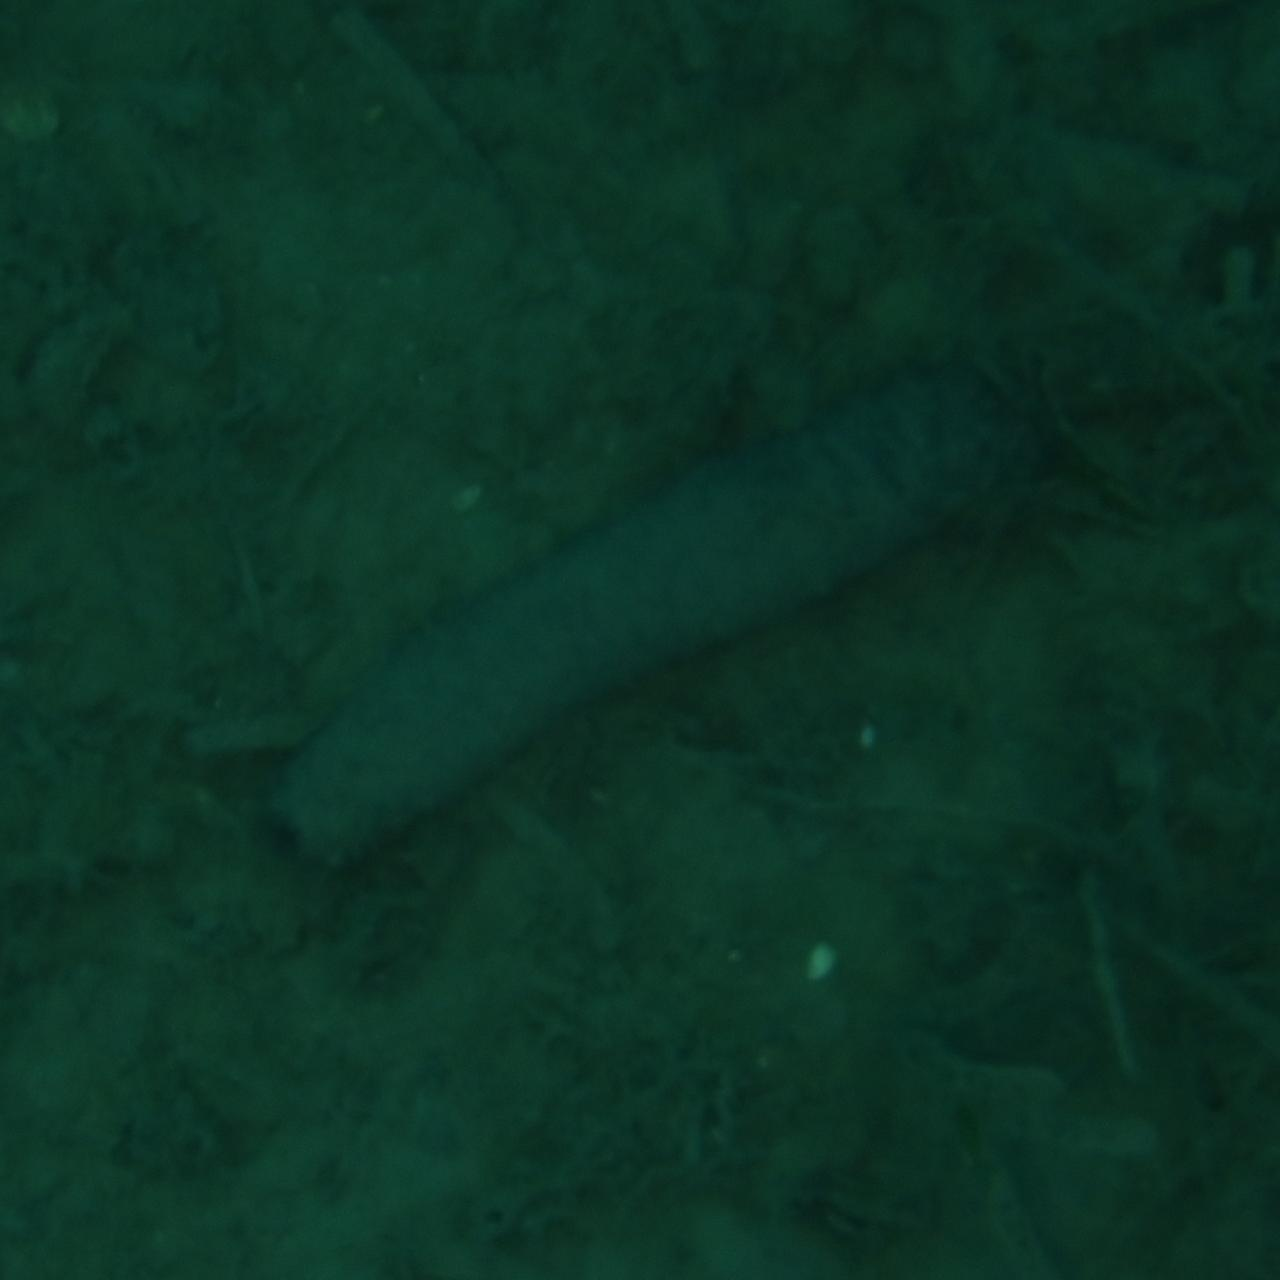Holothuria tubulosa: (248, 380, 1032, 900)
